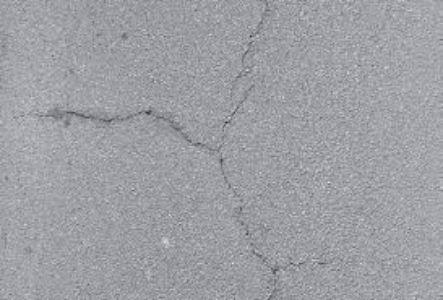crack: (217, 4, 283, 300), (23, 98, 213, 153), (268, 254, 327, 276)
